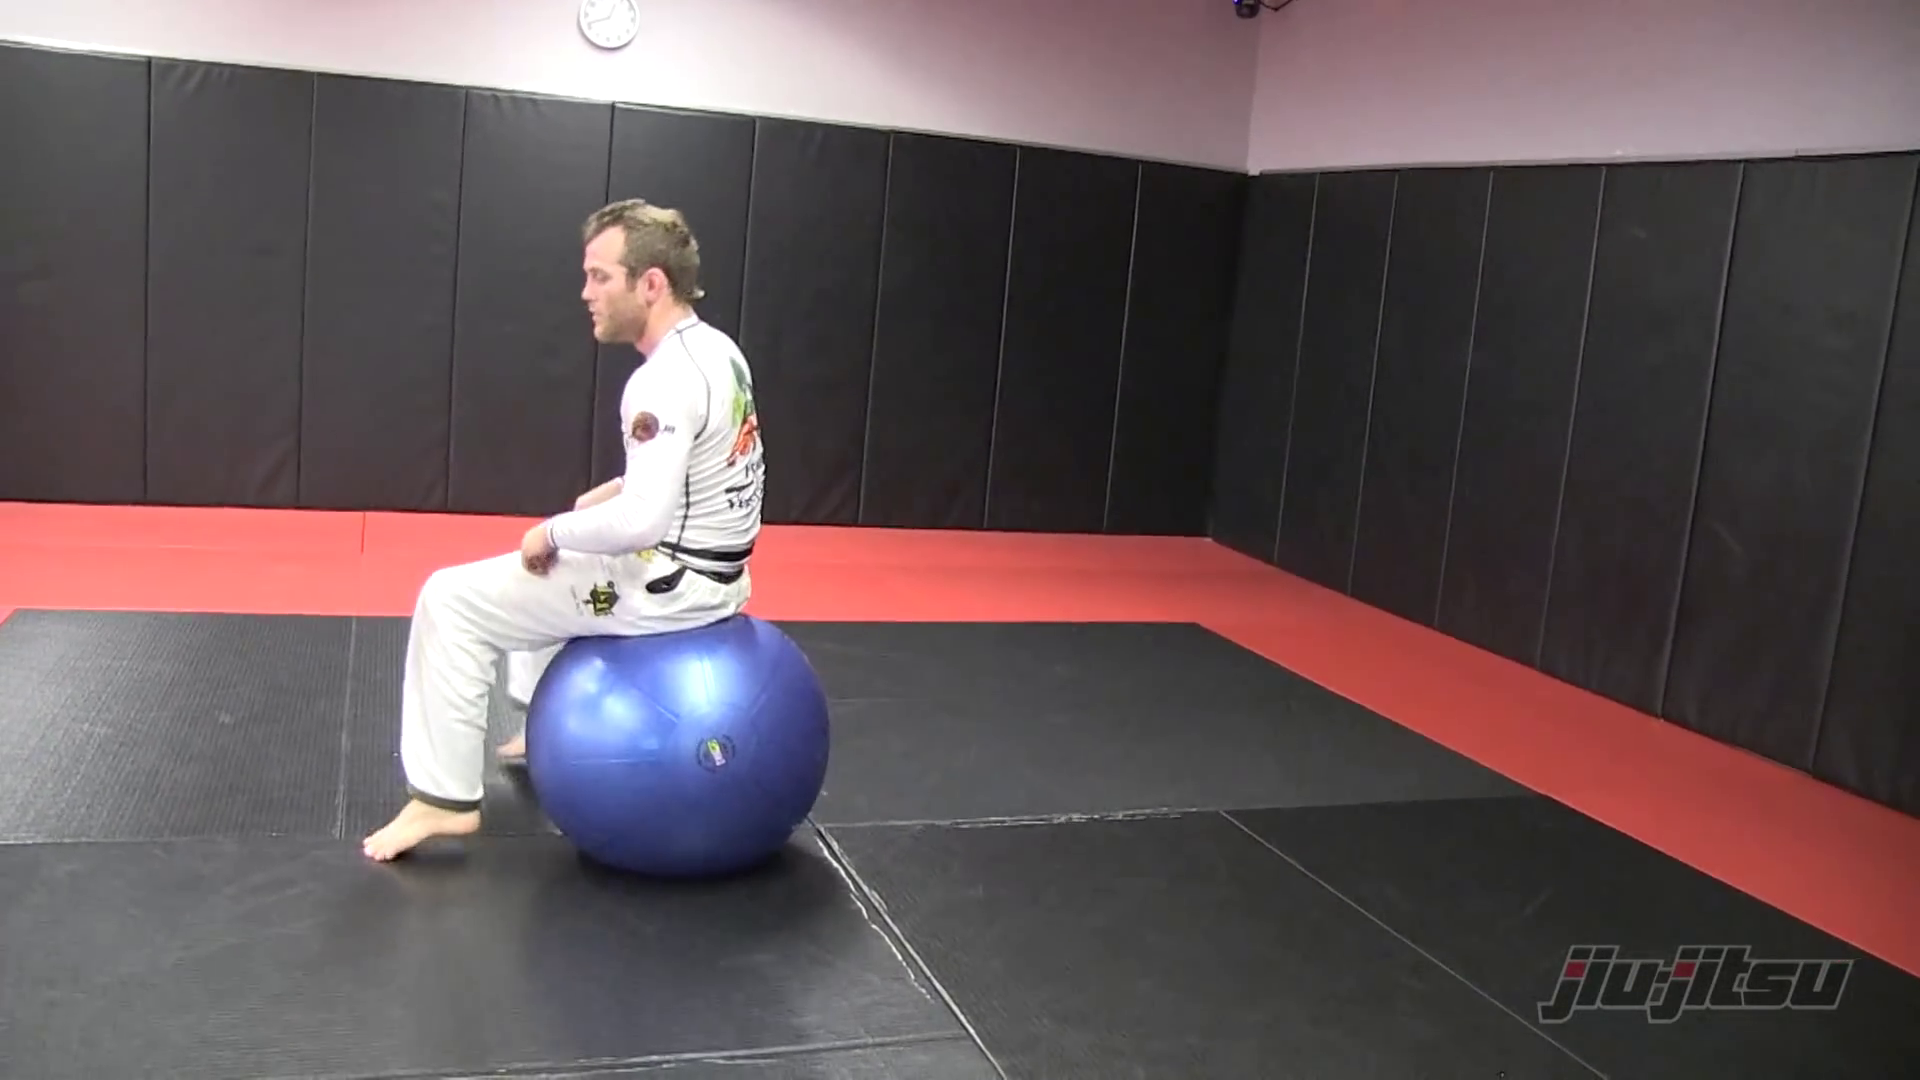yogaball: (508, 592, 849, 884)
